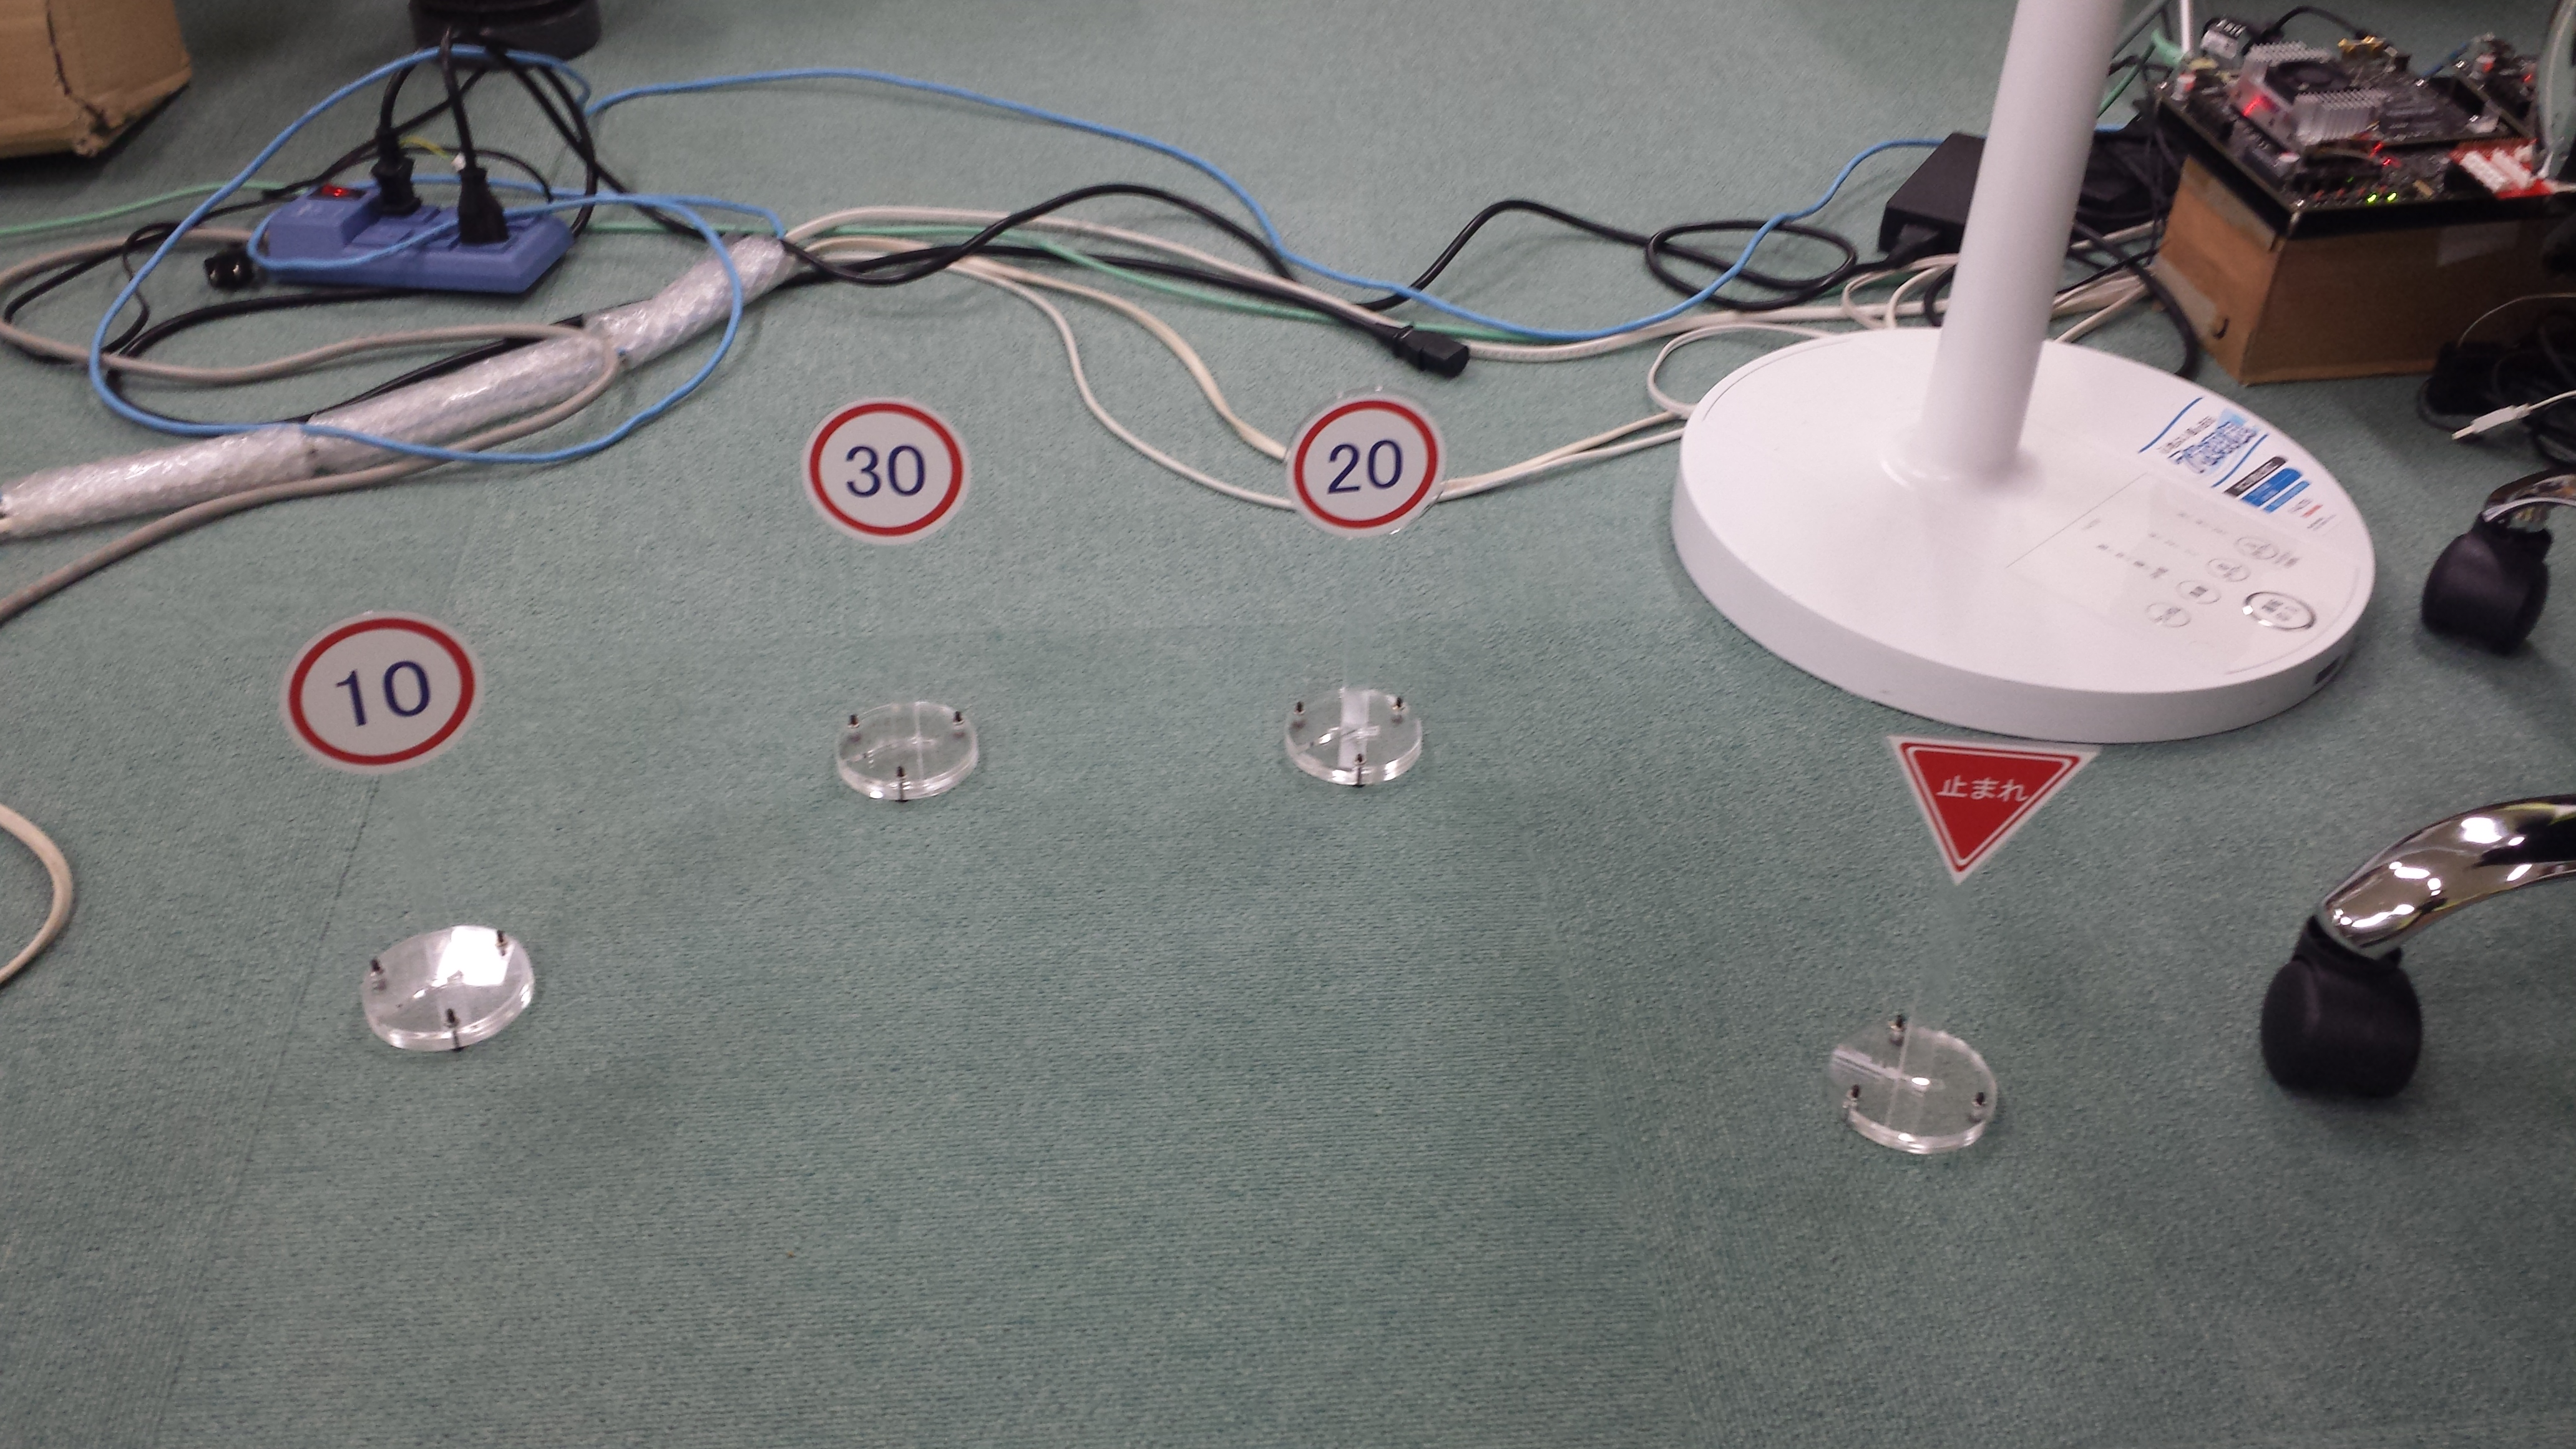speed_10: (278, 610, 487, 777)
speed_20: (1284, 395, 1447, 538)
speed_30: (800, 395, 975, 547)
stop: (1888, 738, 2097, 888)
